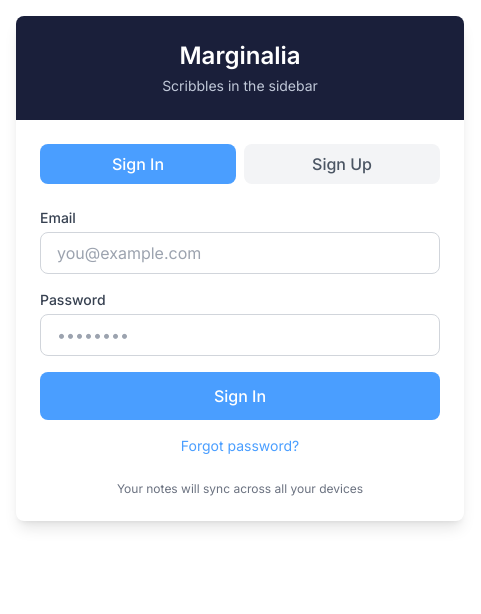
Test: Options › Sign Up form › should show error when passwords do not match
The image size is (481, 614).
(page scrolled)
// Switch to sign up mode
Click the tab with test id "signup-mode-button".
click(342, 164)  # box x1=244 y1=144 x2=440 y2=184
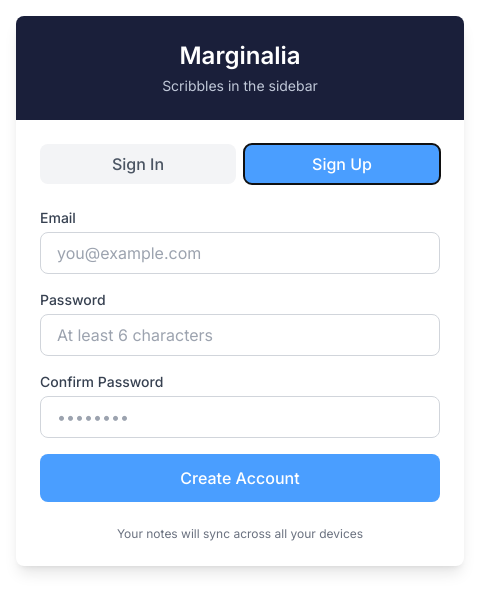
Type "newuser@example.com" into the field with test id "email-input".
click(240, 253); type("newuser@example.com")  # box x1=40 y1=232 x2=440 y2=274
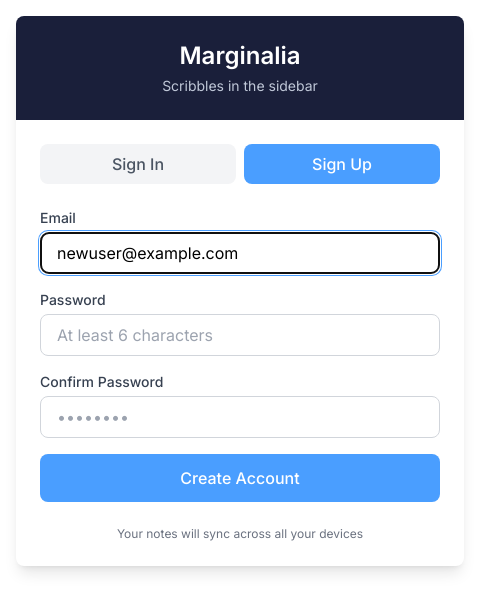
Type "password123" into the password field with test id "password-input".
click(240, 335); type("password123")  # box x1=40 y1=314 x2=440 y2=356
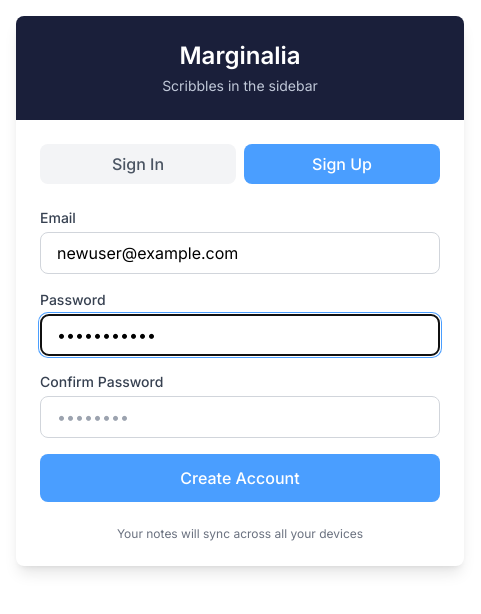
Type "differentpassword" into the password field with test id "confirm-password-input".
click(240, 417); type("differentpassword")  # box x1=40 y1=396 x2=440 y2=438
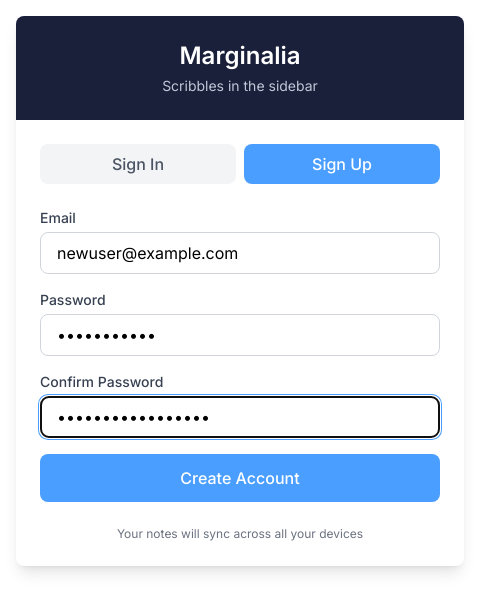
Click the button with test id "signup-submit-button".
click(240, 478)  # box x1=40 y1=454 x2=440 y2=502
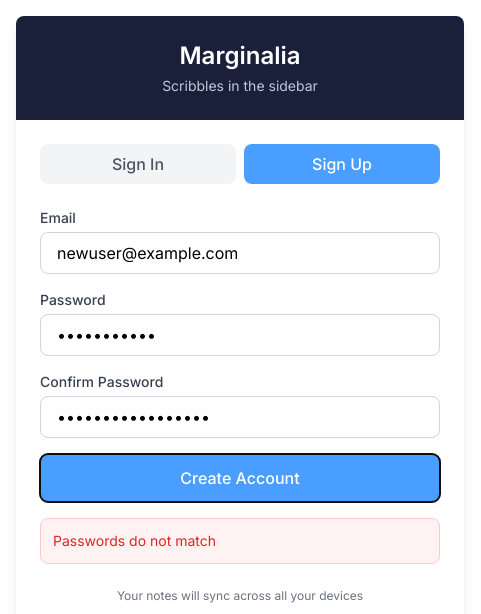
Expected: the message with test id "error-message" reads "Passwords do not match", x1=53 y1=532 x2=216 y2=549
